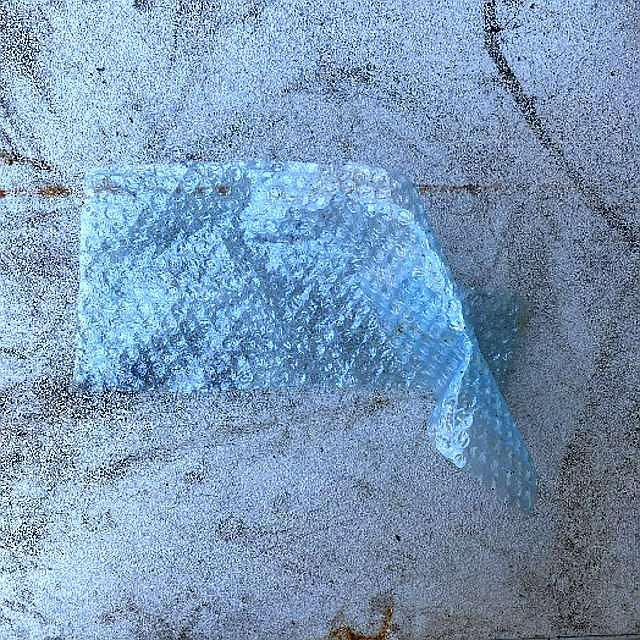Non-biodegradable: (70, 157, 541, 516)
